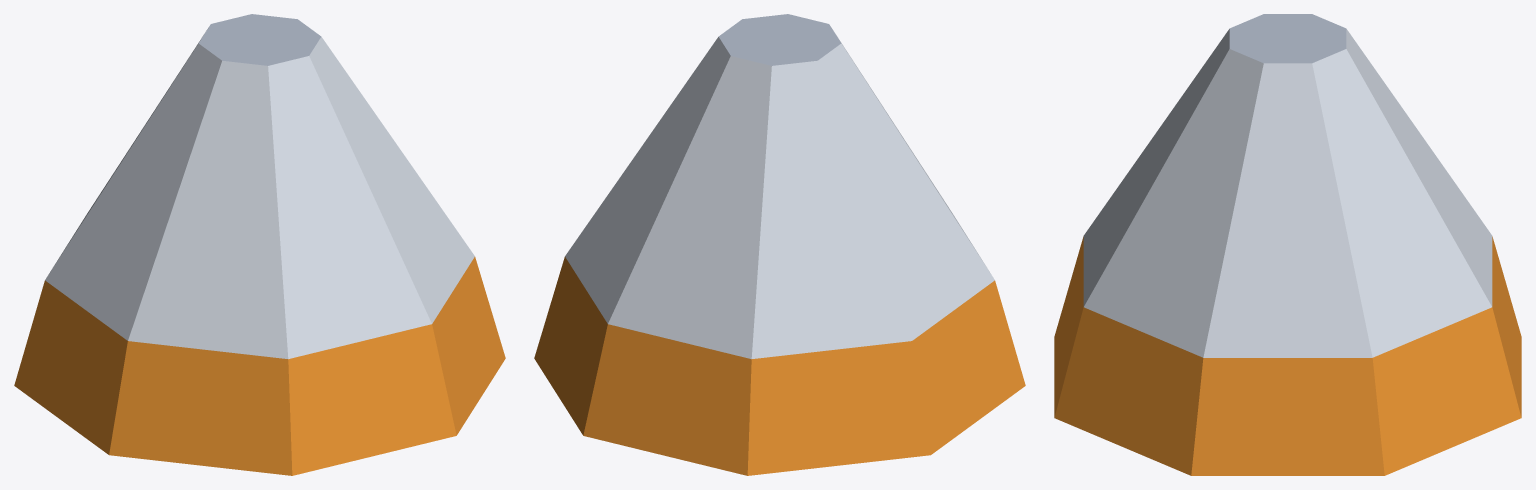
File: k-rocket-top-a.glb
The picture shows the model from 3 angles, left to right: view 1: azimuth 30°, elevation 25°; view 2: azimuth 150°, elevation 25°; view 3: azimuth 270°, elevation 25°; orthographic projection.
Parts seen in each view (by area): view 1: rocket_topA; view 2: rocket_topA; view 3: rocket_topA.
Boxes of the visible parts, box(x1,y1,x2,y2) form: rocket_topA: box(14, 14, 505, 475); rocket_topA: box(534, 14, 1025, 475); rocket_topA: box(1054, 14, 1521, 475).
Bounding box in the file's own units: 1 × 0.8 × 1.
